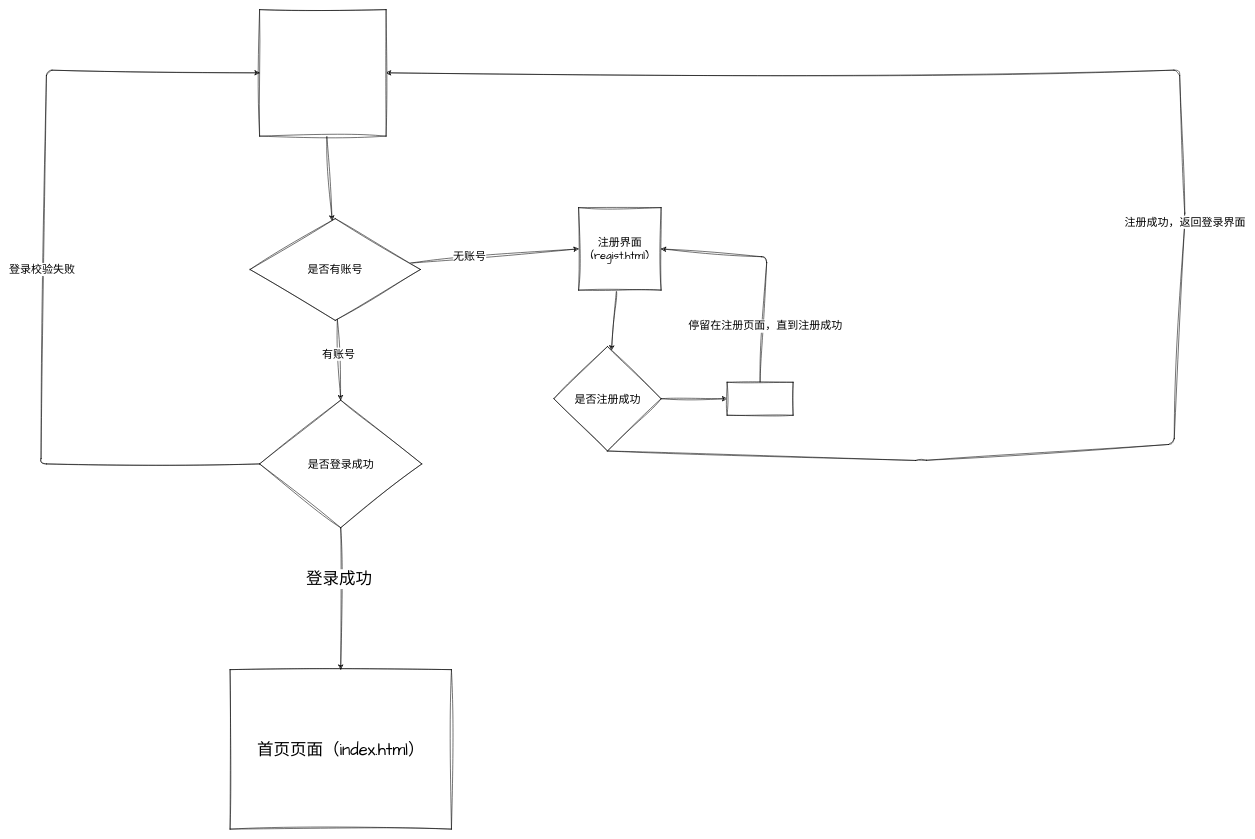
The diagram is 1255 pixels wide and 839 high, and some of its shapes have lost their labels. Each missing label, with the centre of its shape:
注册失败: (x=760, y=398)
登录界面（login.html）: (x=322, y=72)
